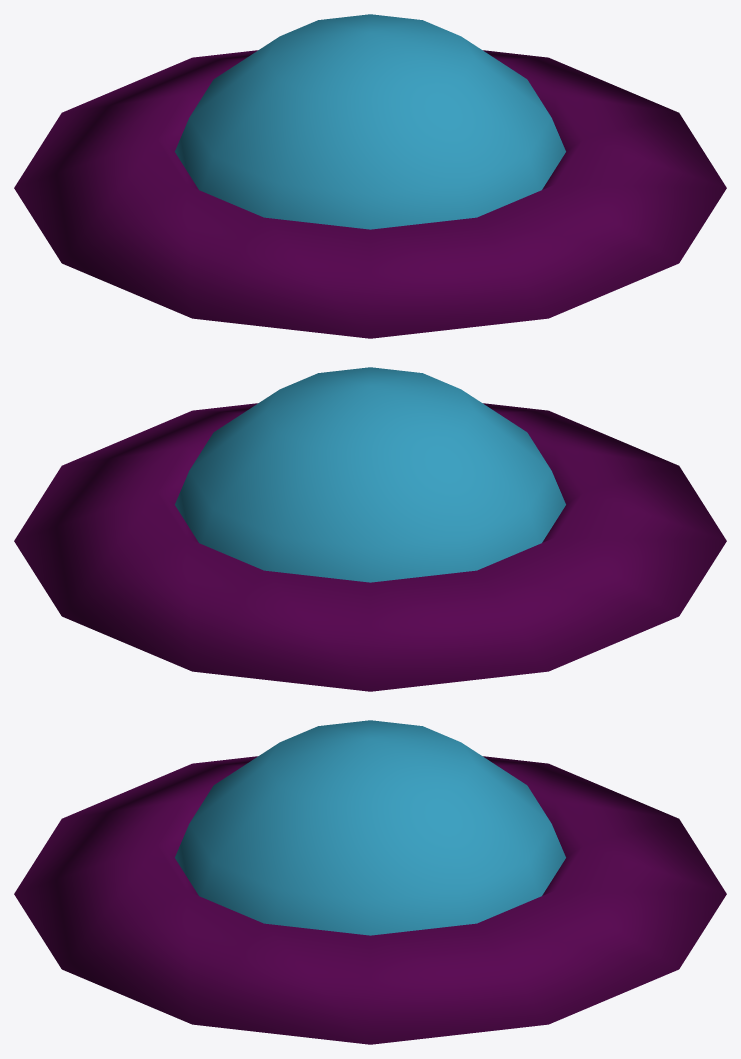
File: normal.fbx
The picture shows the model from 3 angles, top to bottom: view 1: azimuth 30°, elevation 25°; view 2: azimuth 150°, elevation 25°; view 3: azimuth 270°, elevation 25°; orthographic projection.
Visible parts, largest first — view 1: Torus001; view 2: Torus001; view 3: Torus001.
Part boxes in pixels (<box>): Torus001: <box>14,14,726,338</box>; Torus001: <box>14,367,726,691</box>; Torus001: <box>14,720,726,1044</box>.
Size of the model in its own units: 48.13 by 19.59 by 48.13.
